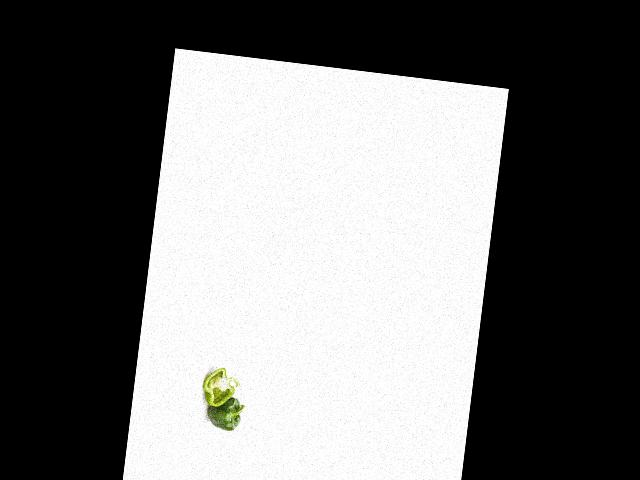bell_pepper: (201, 363, 244, 411)
